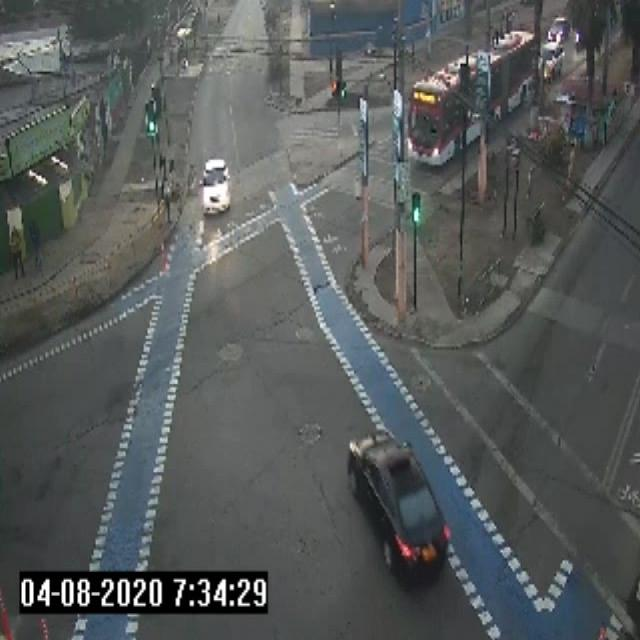AB: (399, 24, 547, 175)
